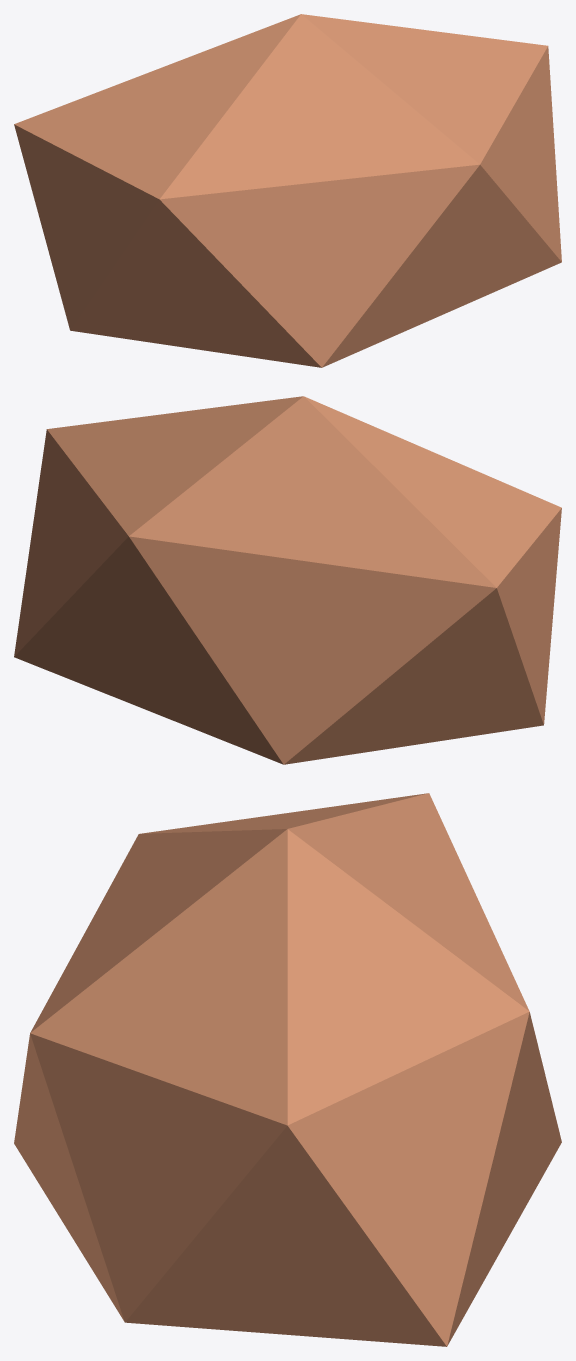
The model's file is Rock_02.glb.
The picture shows the model from 3 angles, top to bottom: view 1: azimuth 30°, elevation 25°; view 2: azimuth 150°, elevation 25°; view 3: azimuth 270°, elevation 25°; orthographic projection. The views are drawn at different scales.
Visible parts, largest first — view 1: Eroded Mars boulder.001; view 2: Eroded Mars boulder.001; view 3: Eroded Mars boulder.001.
Boxes of the visible parts, x1=… form: Eroded Mars boulder.001: x1=14, y1=14, x2=561, y2=367; Eroded Mars boulder.001: x1=14, y1=396, x2=561, y2=764; Eroded Mars boulder.001: x1=14, y1=793, x2=561, y2=1346.
Bounding box in the file's own units: 0.7844 × 0.408 × 0.5518.
